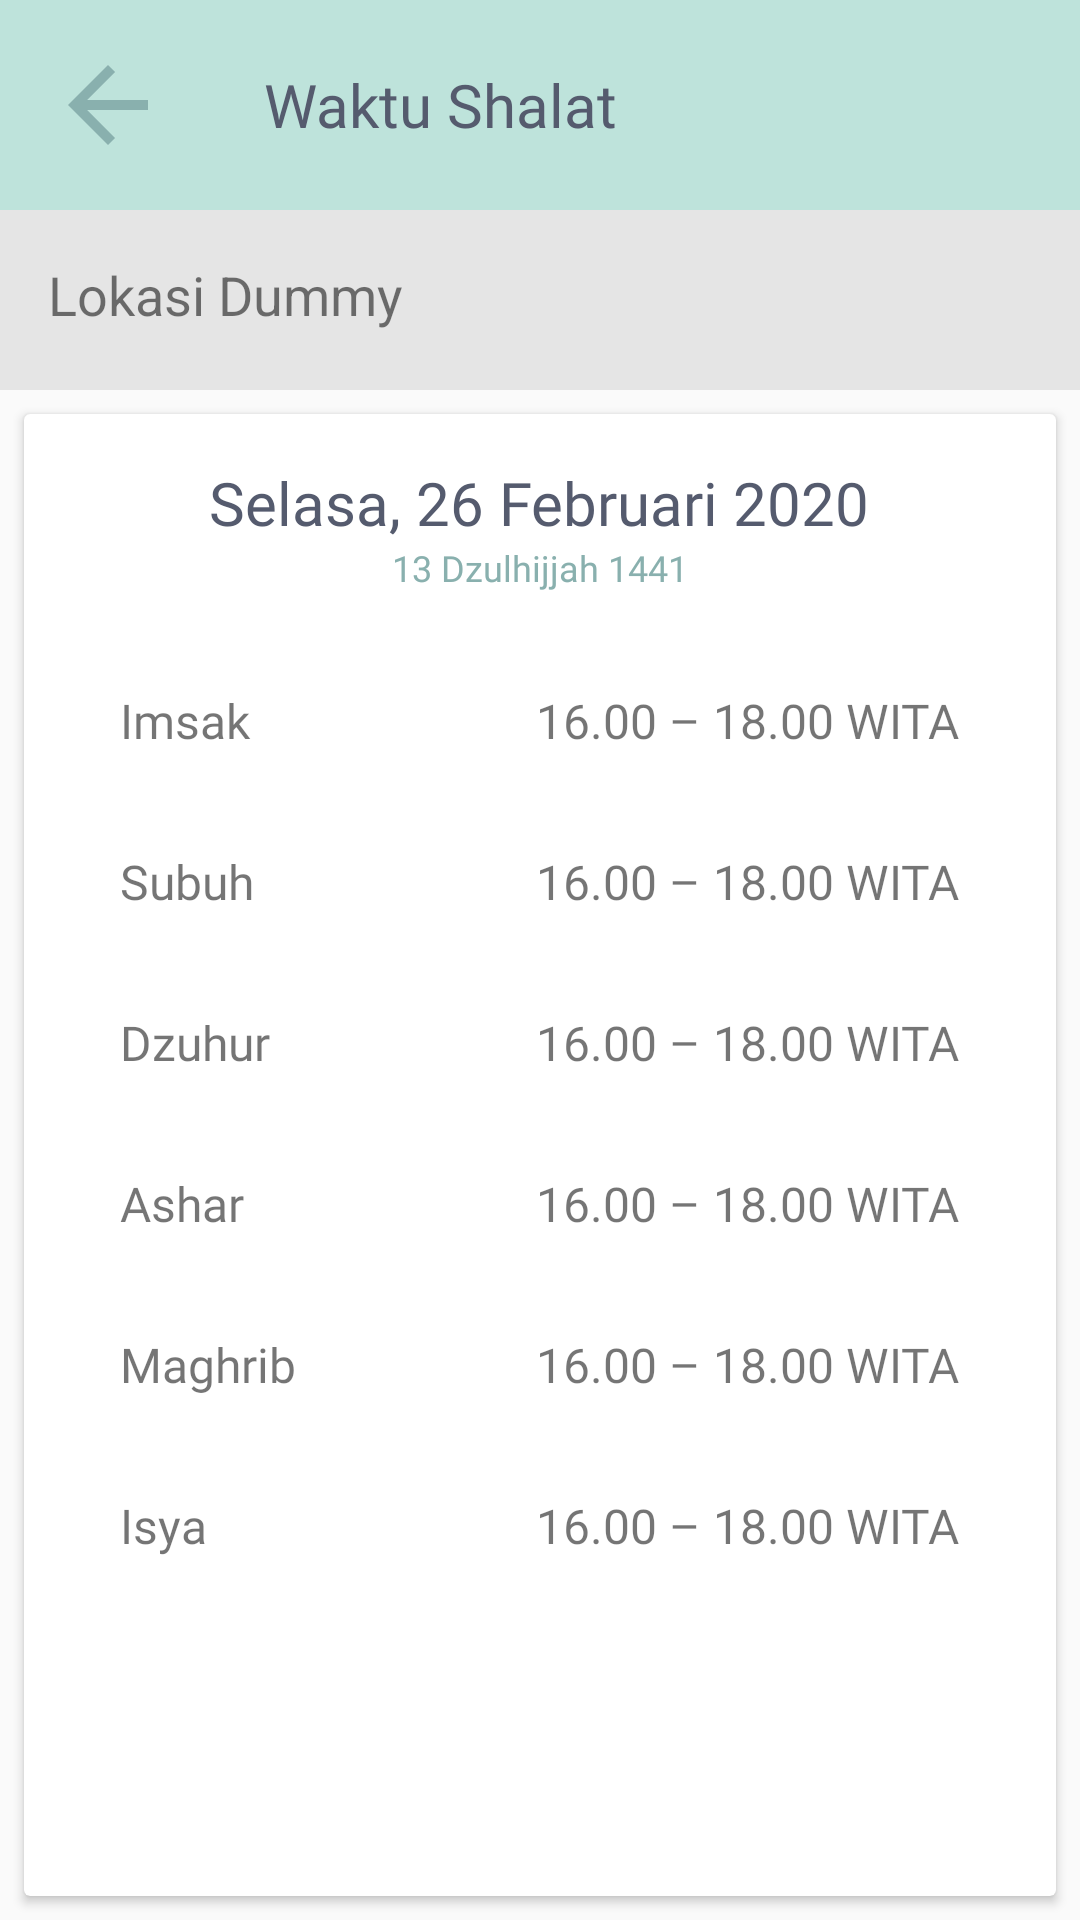

Icons on this 1080×1920 Android screen, each with its box as (x1, y1, x2, y2):
back arrow: (68, 65, 148, 145)
